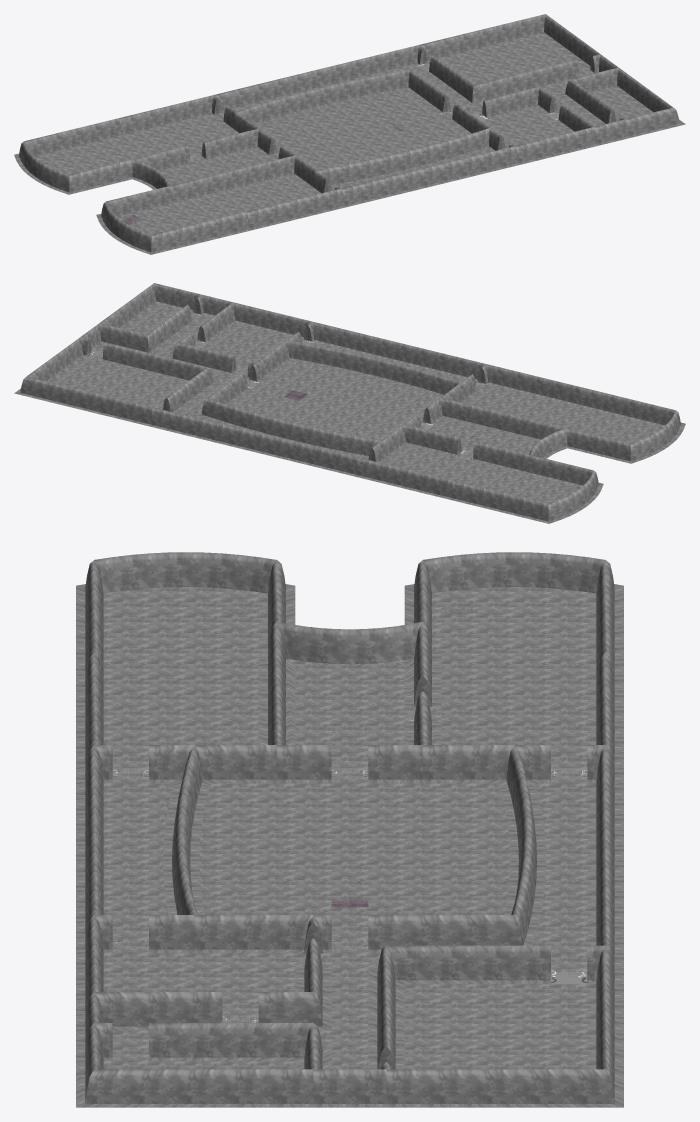
Rendered from level_11.gltf.
3 renders of one model, top to bottom at view 1: azimuth 30°, elevation 25°; view 2: azimuth 150°, elevation 25°; view 3: azimuth 270°, elevation 25°, orthographic. The views are drawn at different scales.
Parts seen in each view (by area): view 1: Mesh_8, Mesh_11, Mesh_7, Mesh_35, Mesh_19, Mesh_82, Mesh_79, Mesh_1, Mesh_4, Mesh_55, Mesh_33, Mesh_0 (+37 smaller); view 2: Mesh_7, Mesh_8, Mesh_11, Mesh_35, Mesh_79, Mesh_19, Mesh_82, Mesh_4, Mesh_1, Mesh_33, Mesh_12, Mesh_55 (+37 smaller); view 3: Mesh_8, Mesh_7, Mesh_11, Mesh_1, Mesh_0, Mesh_3, Mesh_4, Mesh_2, Mesh_6, Mesh_5, Mesh_12, Mesh_27 (+57 smaller).
Boxes of the visible parts, box(x1,y1,x2,y2) form: Mesh_8: box(256, 89, 452, 153); Mesh_11: box(424, 32, 592, 84); Mesh_7: box(273, 119, 467, 169); Mesh_35: box(214, 45, 418, 110); Mesh_19: box(341, 146, 517, 205); Mesh_82: box(316, 128, 490, 184); Mesh_79: box(237, 69, 410, 123); Mesh_1: box(119, 113, 234, 160); Mesh_4: box(177, 176, 317, 218); Mesh_55: box(169, 155, 295, 202); Mesh_33: box(419, 14, 545, 60); Mesh_0: box(35, 135, 127, 174); Mesh_7: box(259, 360, 441, 424); Mesh_8: box(230, 380, 402, 440); Mesh_11: box(46, 354, 186, 409); Mesh_35: box(150, 407, 358, 474); Mesh_79: box(201, 398, 380, 455); Mesh_19: box(312, 321, 485, 379); Mesh_82: box(287, 340, 460, 394); Mesh_4: box(465, 382, 580, 429); Mesh_1: box(382, 445, 522, 487); Mesh_33: box(20, 376, 152, 424); Mesh_12: box(196, 320, 306, 374); Mesh_55: box(440, 397, 566, 439); Mesh_8: box(331, 777, 509, 945); Mesh_7: box(199, 776, 368, 944); Mesh_11: box(404, 977, 596, 1069); Mesh_1: box(430, 656, 596, 775); Mesh_0: box(432, 587, 596, 681); Mesh_3: box(103, 587, 267, 681); Mesh_4: box(103, 656, 258, 775); Mesh_2: box(287, 659, 415, 775); Mesh_6: box(532, 776, 596, 969); Mesh_5: box(103, 776, 173, 945); Mesh_12: box(103, 946, 306, 1022); Mesh_27: box(85, 1069, 313, 1103).
Bounding box in the file's own units: 56.08 × 1.52 × 24.38.
5 materials, 5 textured.
